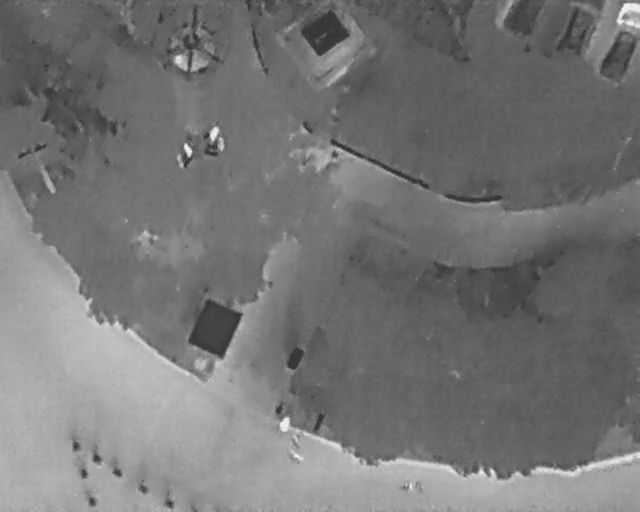Bicycle: (399, 479, 423, 491)
Car: (598, 2, 639, 83), (553, 0, 604, 61), (501, 0, 548, 37)
Person: (286, 447, 307, 466), (289, 430, 306, 449)
